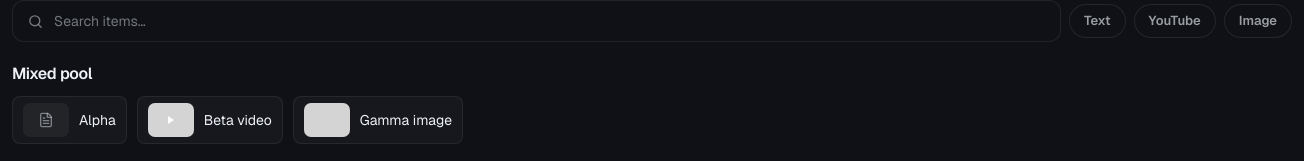
Test case: PackContentsPreview › search and type filter › filters items by type chip
This screenshot has width=1304, height=161.
Click the button "Image": (1258, 21) [1224,4,1292,38]
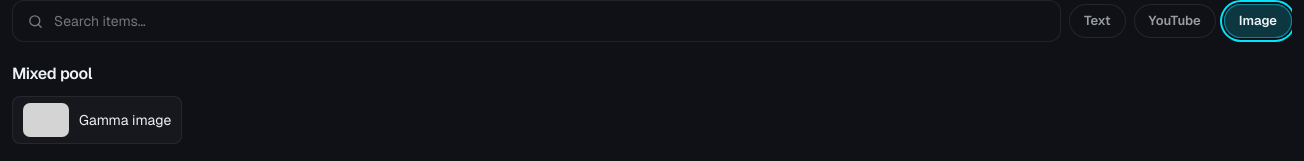
Check: the text "Gamma image" is shown, box [79,110,171,130]
Check: the text "Alpha" is gone
Check: the text "Beta video" is gone
